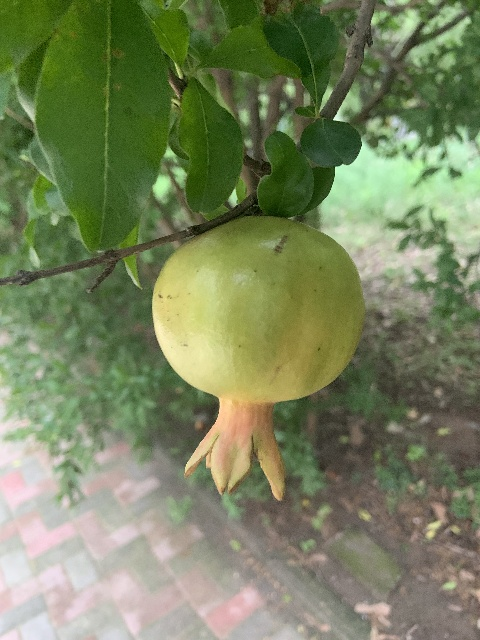mid-growth: (152, 215, 366, 502)
